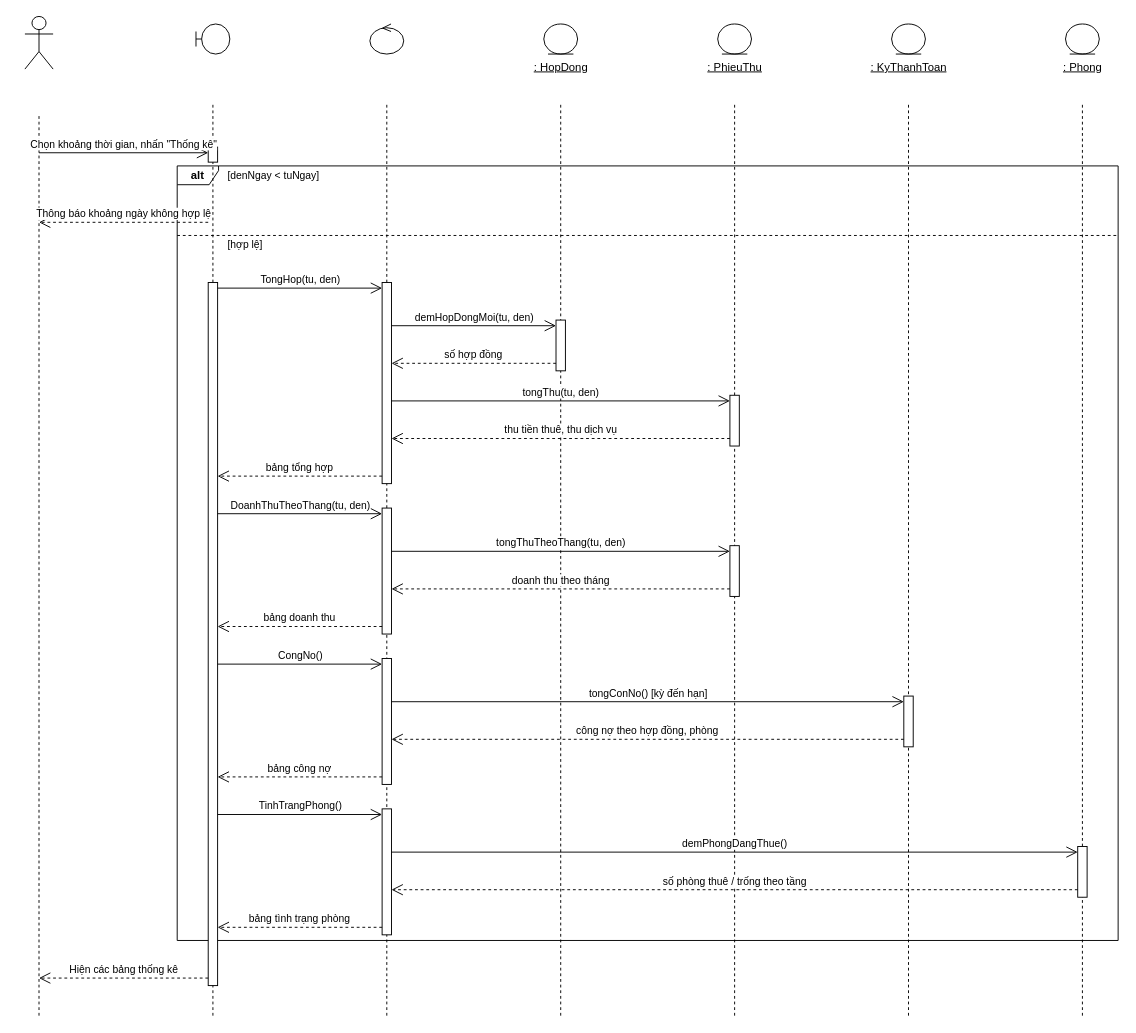
Image size: 1136x1033. Some labels were removed from this diagram. The shapes that lost their labels are listed below. From the top down, each one's centre as x and y in pixels, then its label:
At [38,42]: ": Quản lý".
At [212,38]: ": FrmThongKe".
At [386,38]: ": ThongKeService".
